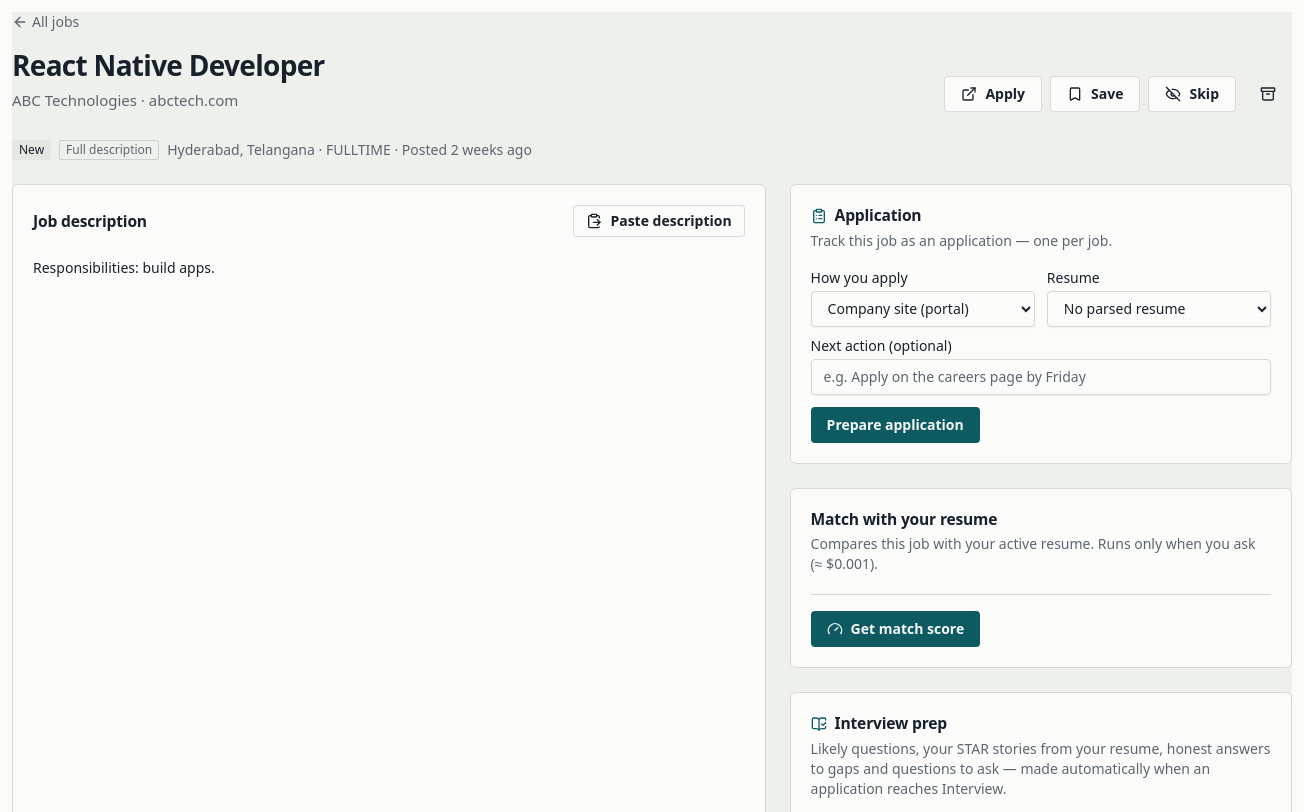
Scenario: JobDetailPage › shows the description, apply link and saves the job
Expected: the text "Responsibilities: build apps." is shown, 33,258 -> 215,277
Step 1. Click the button "Save" → click(1095, 94), box 1050,76 -> 1140,112
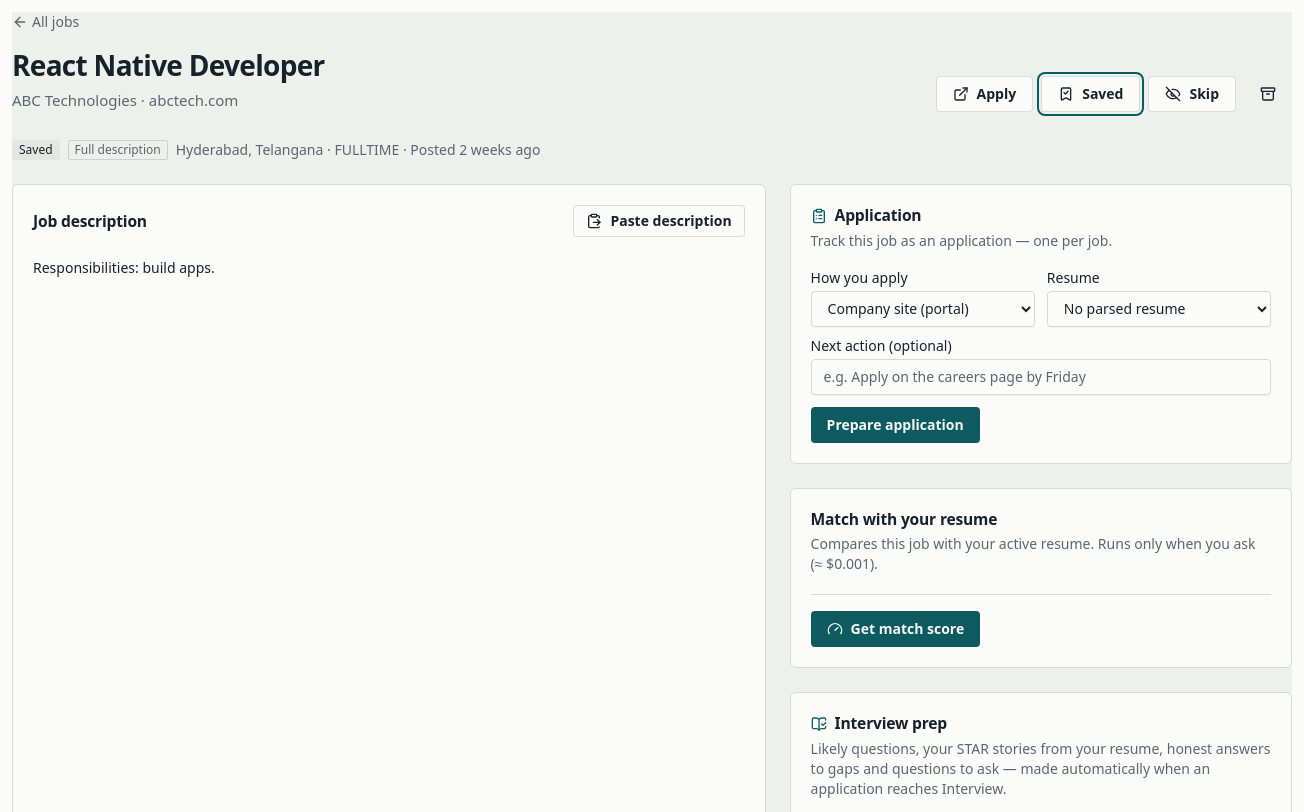
Expected: the button "Saved" is shown, 1041,76 -> 1140,112
